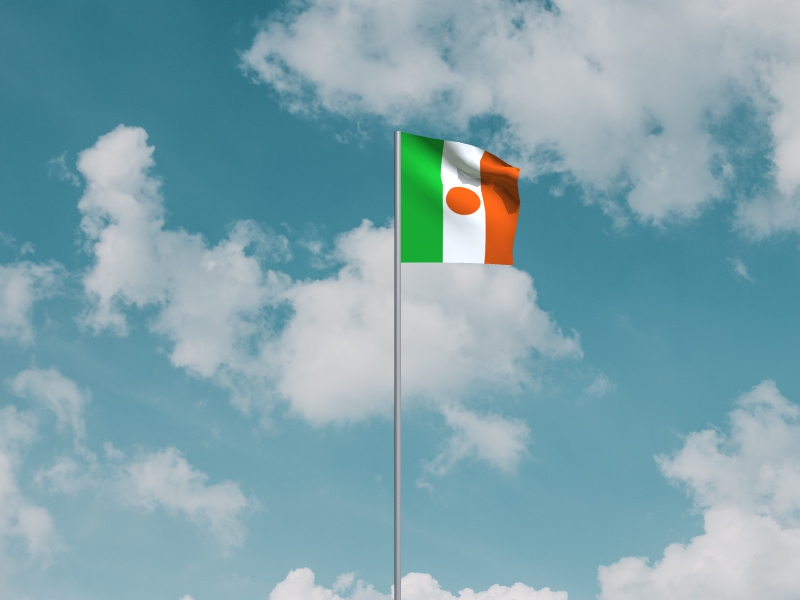ne: (401, 132, 522, 266)
